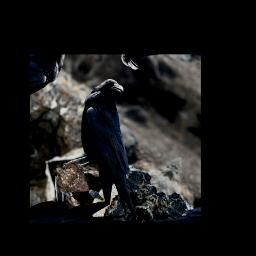Crow: (44, 71, 194, 222)
